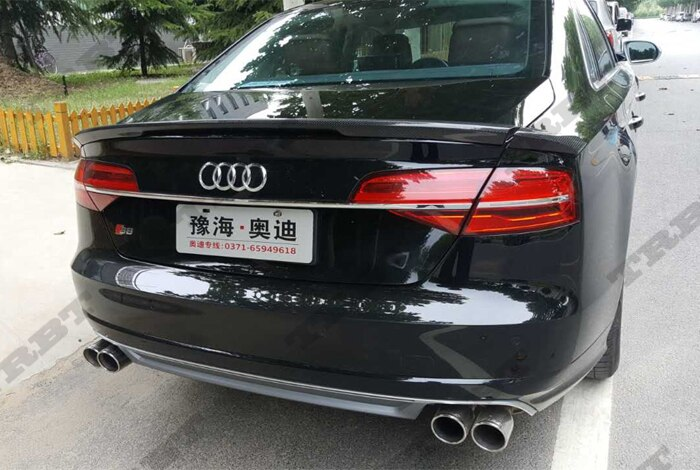audi: (191, 157, 271, 196)
